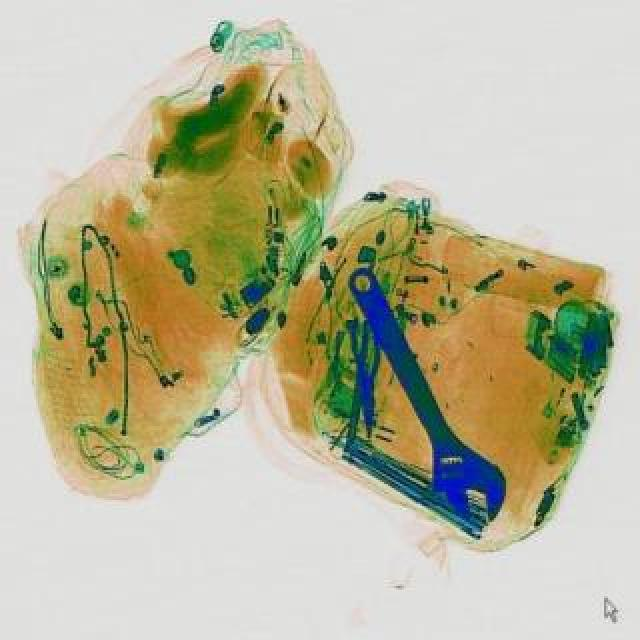scissors: (322, 252, 522, 536)
wrench: (348, 316, 384, 438)
